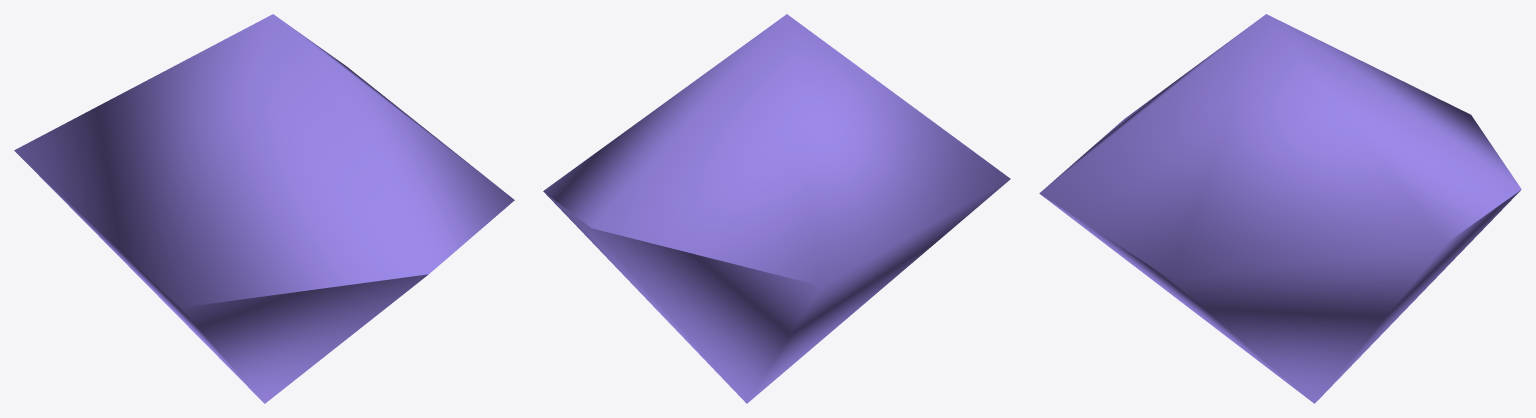
Rendered from plantHole_low.glb.
3 renders of one model, left to right at view 1: azimuth 30°, elevation 25°; view 2: azimuth 150°, elevation 25°; view 3: azimuth 270°, elevation 25°, orthographic. The views are drawn at different scales.
Parts seen in each view (by area): view 1: Icosphere; view 2: Icosphere; view 3: Icosphere.
Boxes of the visible parts, x1,y1,x2,y2 form: Icosphere: [14, 14, 514, 403]; Icosphere: [543, 14, 1010, 403]; Icosphere: [1039, 14, 1521, 403].
Size of the model in its own units: 0.6328 by 0.697 by 0.7983.
